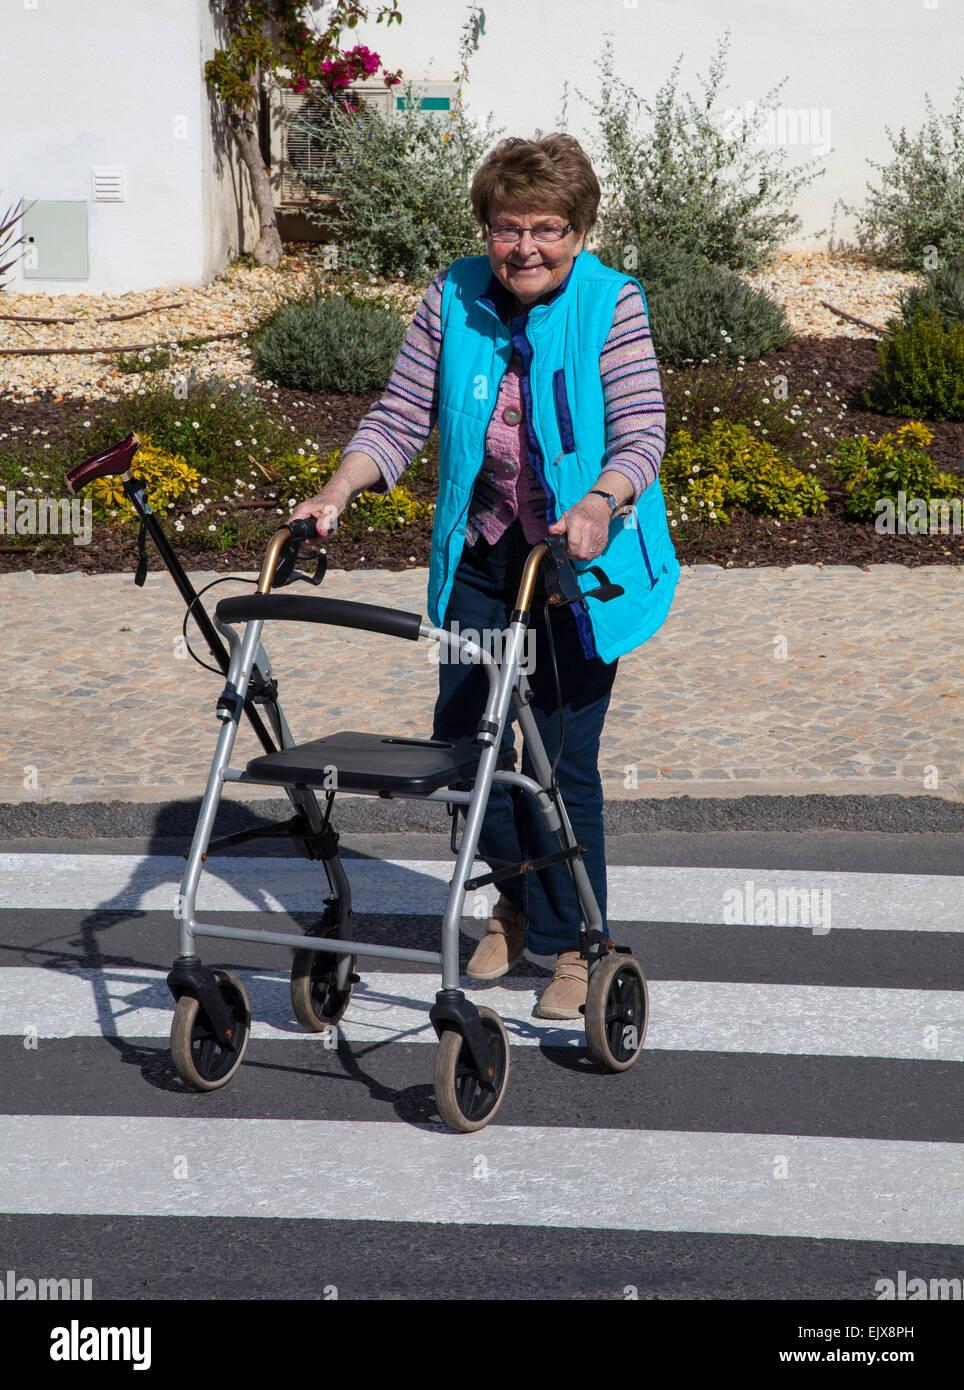walking_frame: (166, 133, 682, 1133)
